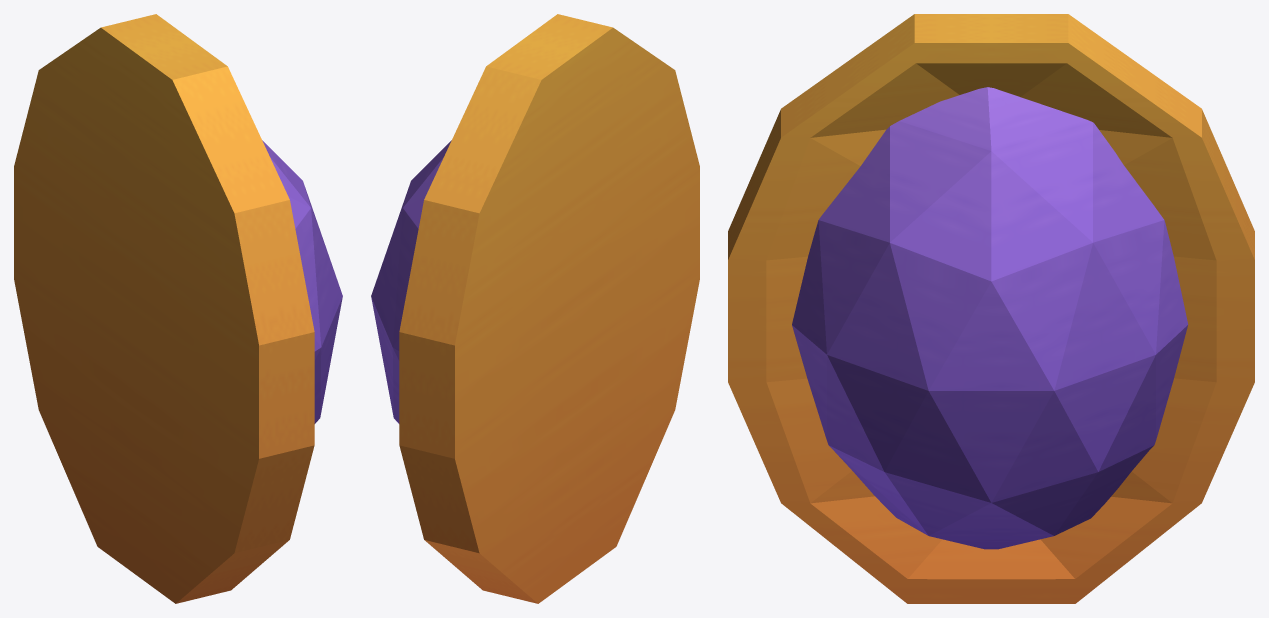
The model's file is pendant.glb.
The picture shows the model from 3 angles, left to right: view 1: azimuth 30°, elevation 25°; view 2: azimuth 150°, elevation 25°; view 3: azimuth 270°, elevation 25°; orthographic projection. The views are drawn at different scales.
Parts seen in each view (by area): view 1: Pendant, Icosphere; view 2: Pendant, Icosphere; view 3: Icosphere, Pendant.
Boxes of the visible parts, bbox=[...] form: Pendant: bbox=[14, 14, 314, 603]; Icosphere: bbox=[262, 140, 342, 423]; Pendant: bbox=[399, 14, 699, 603]; Icosphere: bbox=[371, 140, 451, 423]; Icosphere: bbox=[792, 87, 1188, 549]; Pendant: bbox=[728, 14, 1254, 603].
Size of the model in its own units: 0.1666 by 0.4688 by 0.3992.
Materials: 1 (1 with a texture image).
